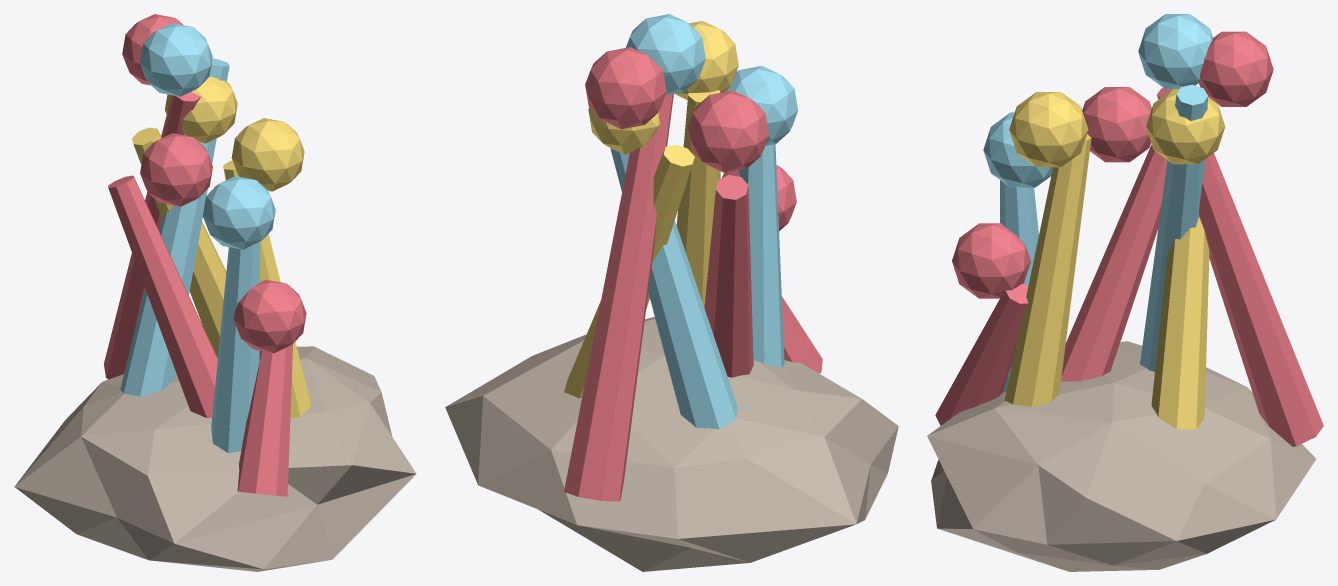
The model's file is Coral.fbx.
3 views of the same model, side by side, from view 1: azimuth 30°, elevation 25°; view 2: azimuth 150°, elevation 25°; view 3: azimuth 270°, elevation 25° (orthographic). The views are drawn at different scales.
Visible parts, largest first — view 1: Rock, Band, Glow, Gold; view 2: Rock, Band, Glow, Gold; view 3: Rock, Band, Gold, Glow.
Boxes of the visible parts, left/top/right/bottom form: Rock: left=14, top=346, right=416, bottom=571; Band: left=104, top=14, right=306, bottom=496; Glow: left=120, top=23, right=275, bottom=452; Gold: left=132, top=76, right=311, bottom=418; Rock: left=445, top=317, right=898, bottom=571; Band: left=564, top=47, right=822, bottom=501; Glow: left=610, top=14, right=798, bottom=429; Gold: left=564, top=21, right=738, bottom=398; Rock: left=927, top=341, right=1316, bottom=571; Band: left=935, top=31, right=1323, bottom=446; Gold: left=1004, top=89, right=1225, bottom=429; Glow: left=983, top=14, right=1212, bottom=392.
Bounding box in the file's own units: 3.38 × 4.29 × 3.
